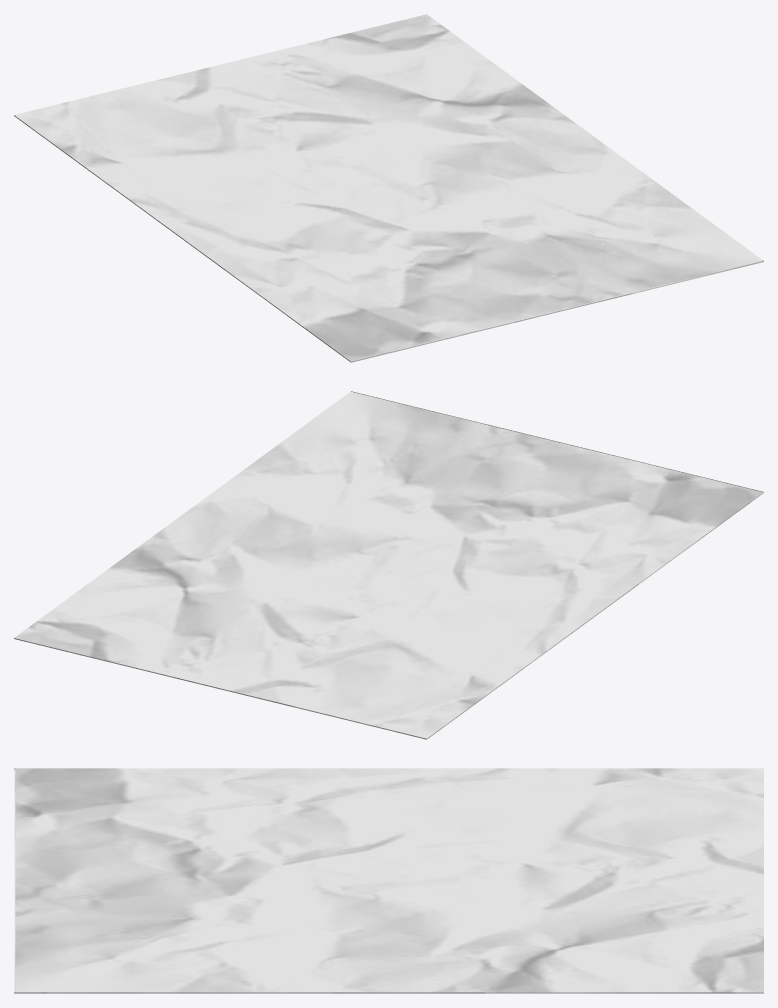
Rendered from Paper_sheet_crumpled.FBX.
The picture shows the model from 3 angles, top to bottom: view 1: azimuth 30°, elevation 25°; view 2: azimuth 150°, elevation 25°; view 3: azimuth 270°, elevation 25°; orthographic projection. The views are drawn at different scales.
Parts seen in each view (by area): view 1: Paper_sheet_crumpled; view 2: Paper_sheet_crumpled; view 3: Paper_sheet_crumpled.
Boxes of the visible parts, box(x1,y1,x2,y2) form: Paper_sheet_crumpled: box(14, 14, 763, 362); Paper_sheet_crumpled: box(14, 391, 763, 739); Paper_sheet_crumpled: box(14, 768, 763, 993).
Size of the model in its own units: 8.27 by 0.0197 by 11.69.
Materials: 1 (1 with a texture image).
